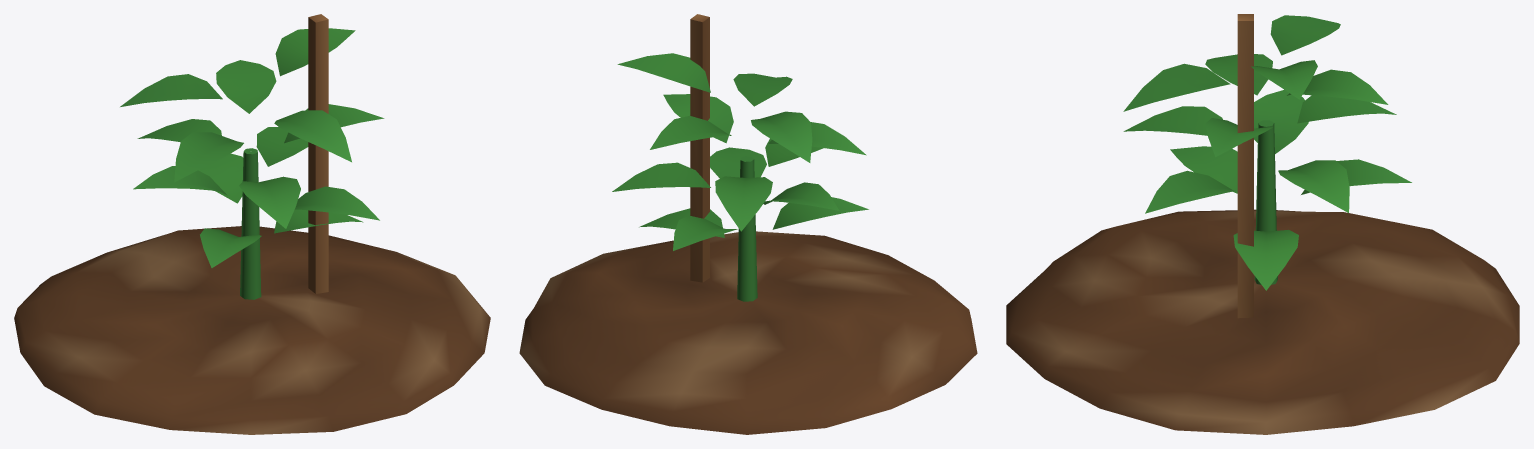
File: plant-tomato-3.gltf
The picture shows the model from 3 angles, left to right: view 1: azimuth 30°, elevation 25°; view 2: azimuth 150°, elevation 25°; view 3: azimuth 270°, elevation 25°; orthographic projection. The views are drawn at different scales.
Bounding box in the file's own units: 1.28 × 0.9168 × 1.26.
